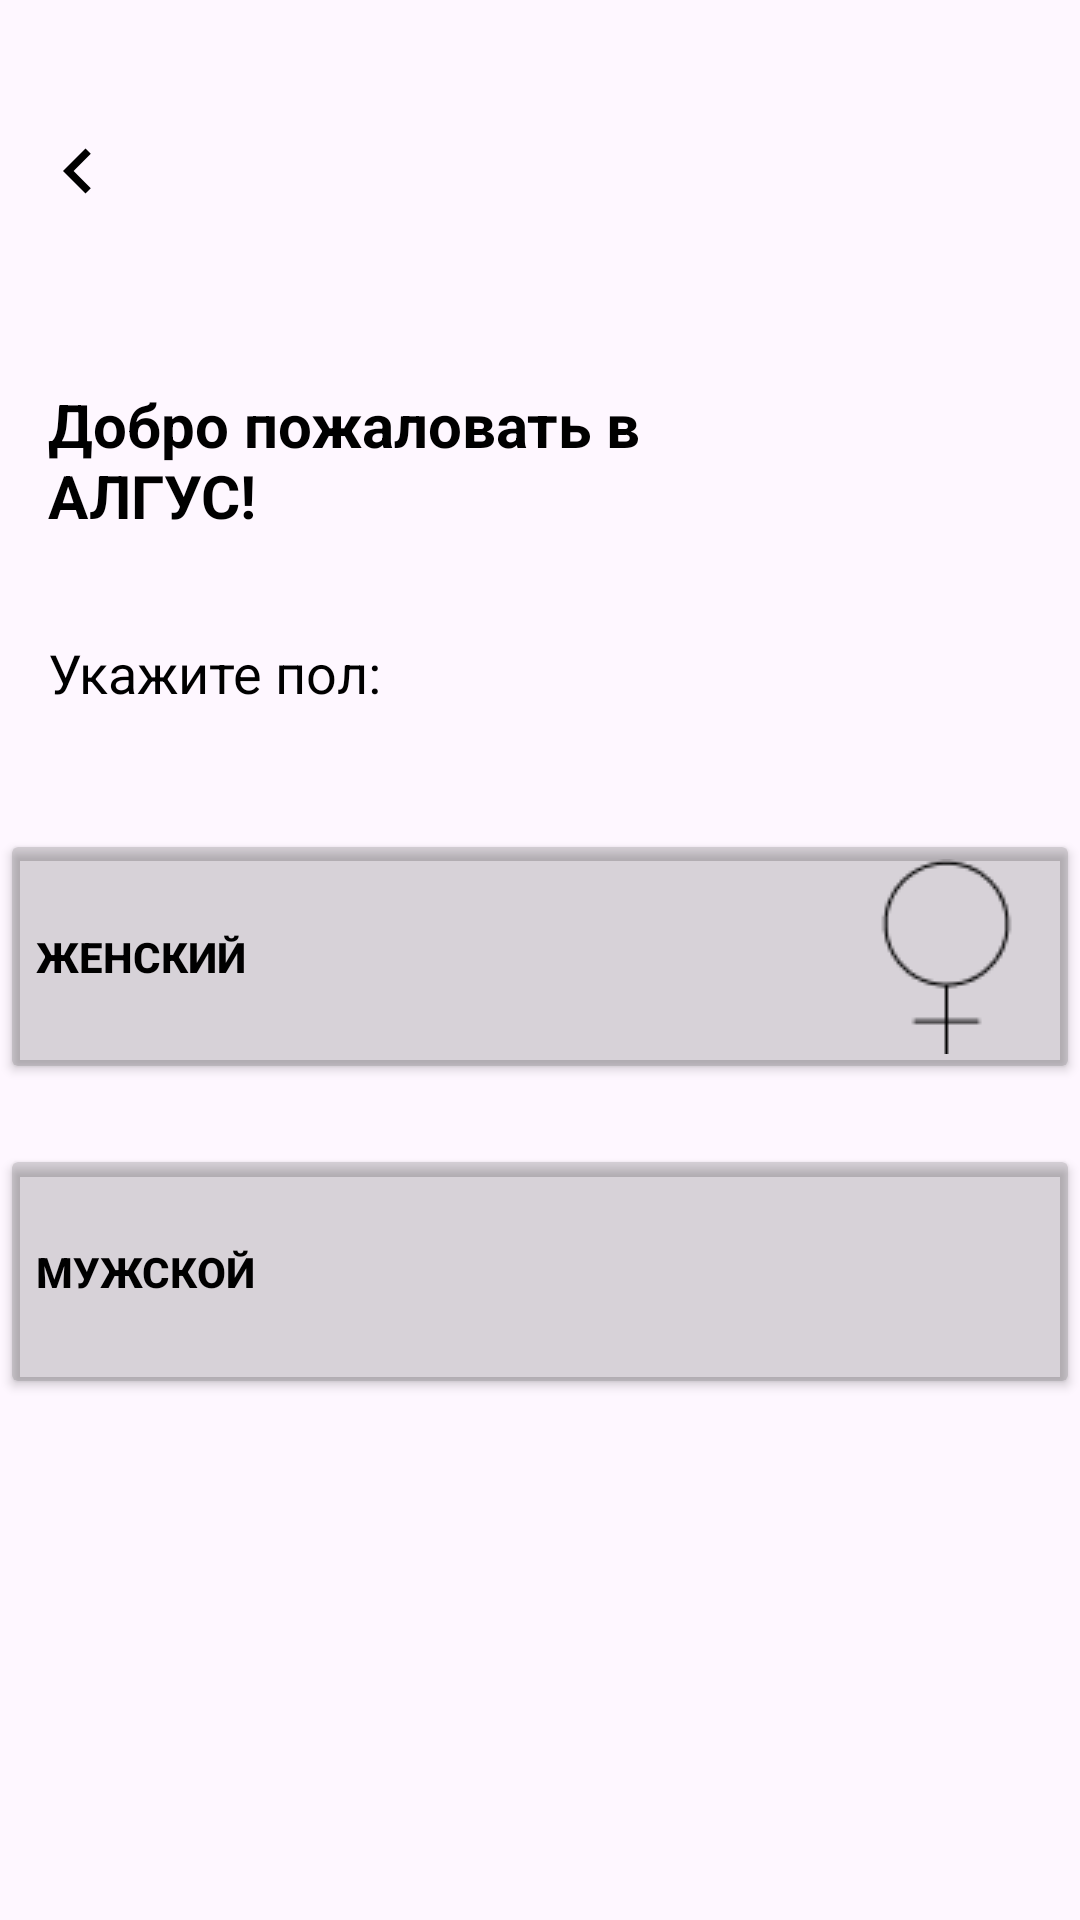

Where icons sit on this 1080w x 1920h app screen, as (left=x1, top=y1, right=x2, bottom=y2):
Нажмите, если хотите вернуться на предыдущий экран: (left=63, top=148, right=91, bottom=194)
